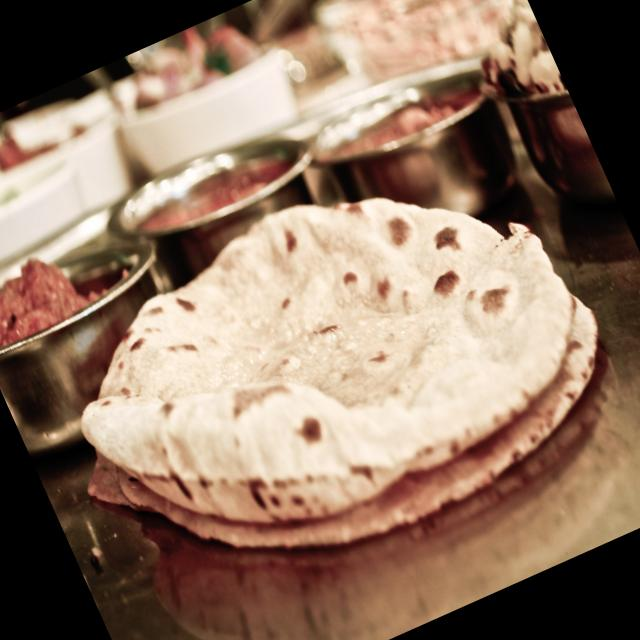roti: (80, 196, 604, 554)
